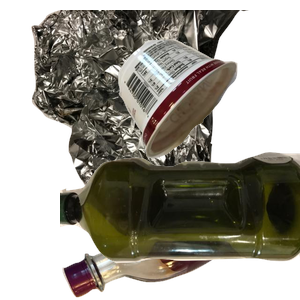glass: (60, 180, 300, 300)
metal: (29, 10, 269, 190)
plastic: (60, 149, 300, 300)
trash: (116, 36, 300, 187)
